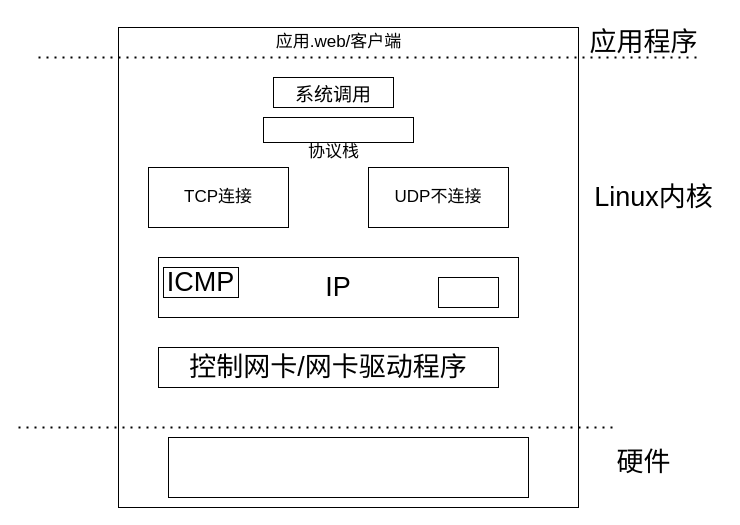
This 740x525 diagram has some shape labels left out. Here are the shapes that lost their labels. From the top down, the centre of each, then its label:
(x=338, y=129): socket库
(x=468, y=292): APR
(x=348, y=467): 物理网卡
